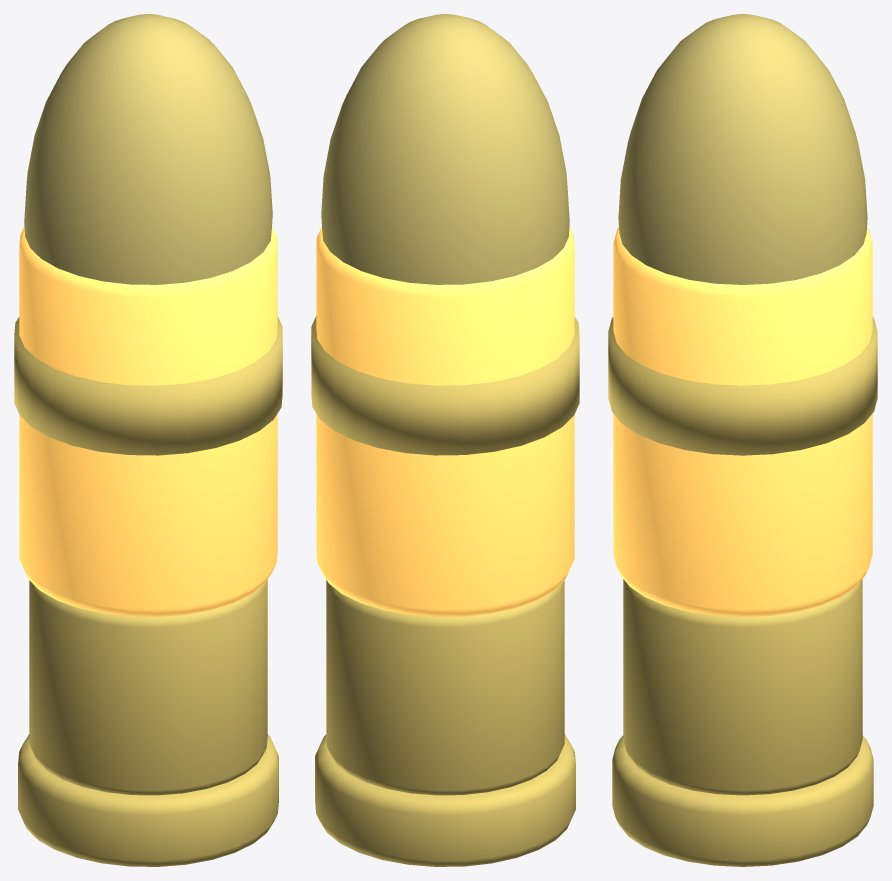
The model's file is shell_heavy.glb.
3 renders of one model, left to right at view 1: azimuth 30°, elevation 25°; view 2: azimuth 150°, elevation 25°; view 3: azimuth 270°, elevation 25°, orthographic.
Visible parts, largest first — view 1: Hull, ProjectileTip, BaseCup, Rim, HeavyGoldBand; view 2: Hull, ProjectileTip, BaseCup, Rim, HeavyGoldBand; view 3: Hull, ProjectileTip, BaseCup, Rim, HeavyGoldBand.
Part boxes in pixels (x1=…): Hull: x1=19, y1=226, x2=277, y2=616; ProjectileTip: x1=24, y1=14, x2=272, y2=284; BaseCup: x1=29, y1=580, x2=267, y2=795; Rim: x1=18, y1=734, x2=278, y2=866; HeavyGoldBand: x1=14, y1=316, x2=282, y2=455; Hull: x1=316, y1=226, x2=574, y2=616; ProjectileTip: x1=321, y1=14, x2=569, y2=284; BaseCup: x1=326, y1=580, x2=564, y2=795; Rim: x1=315, y1=734, x2=575, y2=866; HeavyGoldBand: x1=311, y1=316, x2=579, y2=455; Hull: x1=613, y1=226, x2=872, y2=616; ProjectileTip: x1=618, y1=14, x2=867, y2=284; BaseCup: x1=623, y1=579, x2=862, y2=795; Rim: x1=612, y1=735, x2=873, y2=866; HeavyGoldBand: x1=608, y1=317, x2=877, y2=455.
Size of the model in its own units: 0.216 by 0.715 by 0.216.
